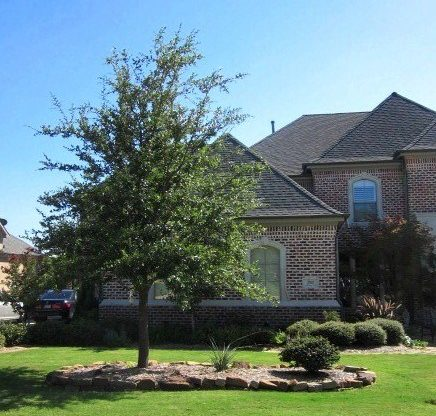bush: (281, 318, 413, 349)
tree: (43, 40, 248, 369)
